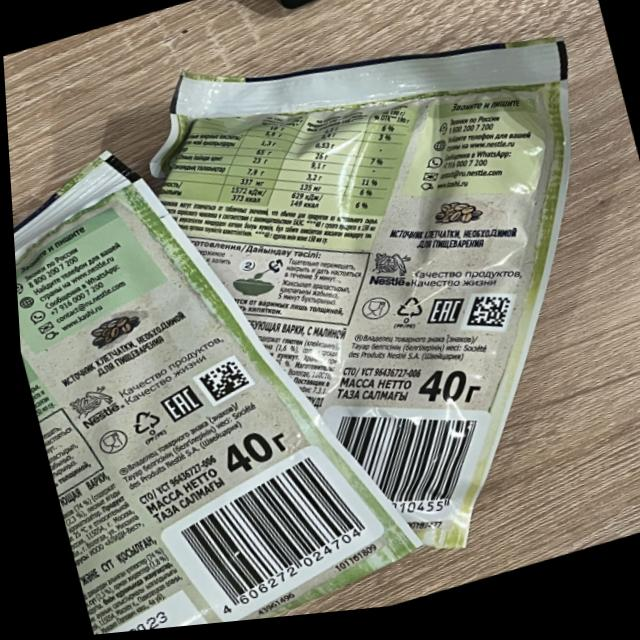datamatrix: (457, 297, 514, 348), (192, 361, 249, 410)
